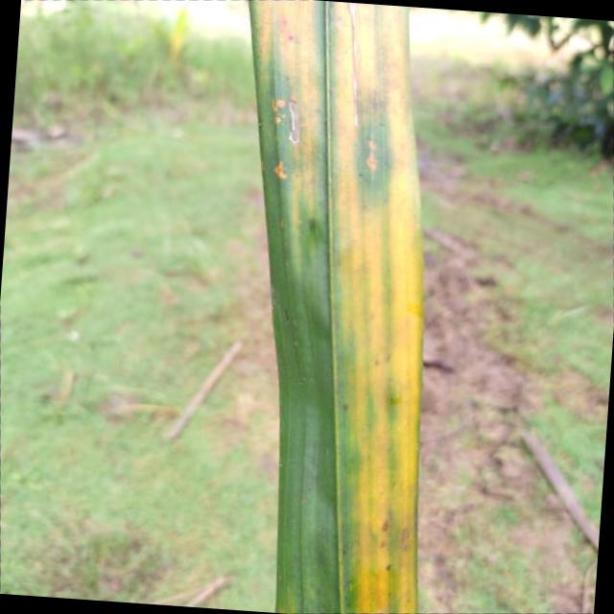Megnesium: (246, 0, 422, 614)
